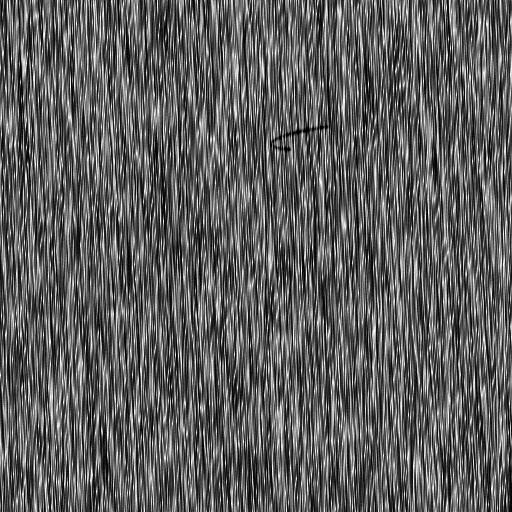DefectTypeC: (274, 124, 329, 154)
